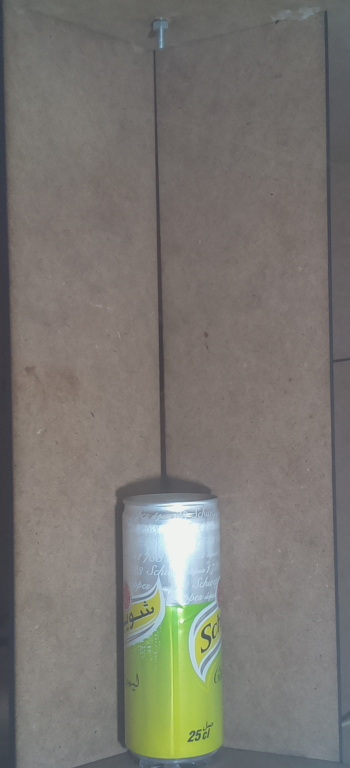Canette: (114, 484, 234, 766)
